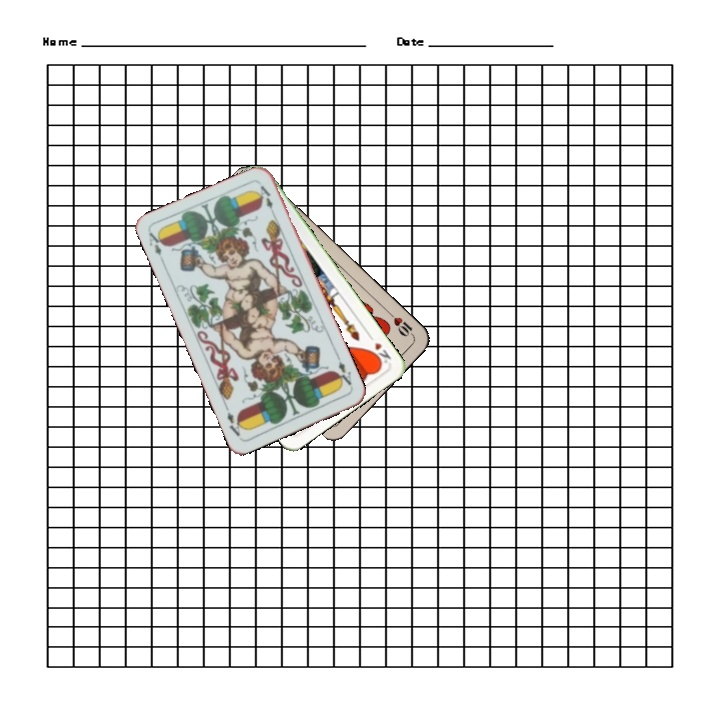EA: (331, 352, 355, 390), (145, 227, 167, 266)
H10: (383, 307, 416, 340)
HK: (364, 330, 394, 368)
